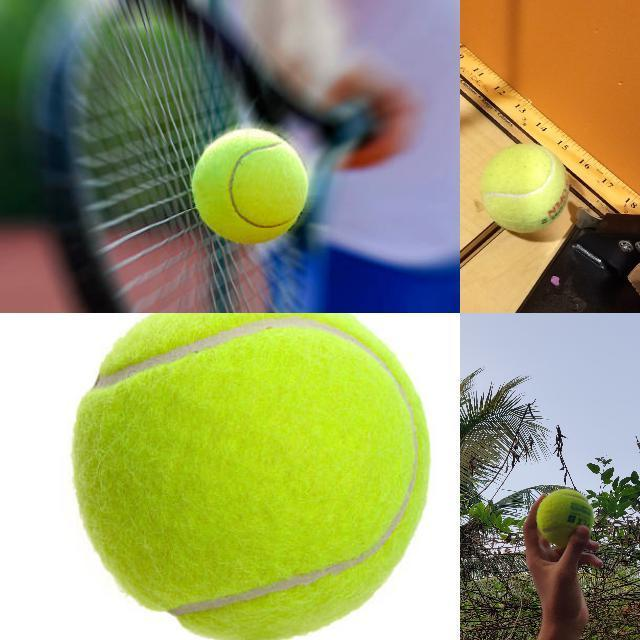tennis-ball: (71, 313, 431, 639), (192, 126, 309, 245), (479, 142, 570, 234), (535, 488, 594, 547)
